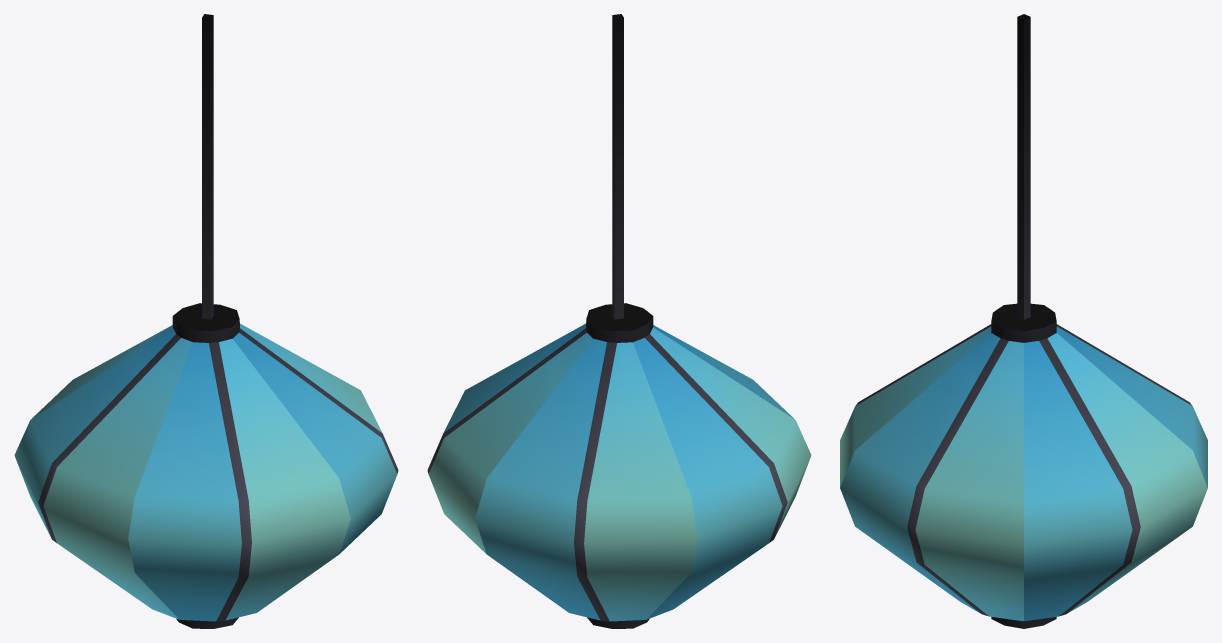
Rendered from Lantern_D_02.FBX.
The picture shows the model from 3 angles, left to right: view 1: azimuth 30°, elevation 25°; view 2: azimuth 150°, elevation 25°; view 3: azimuth 270°, elevation 25°; orthographic projection.
Parts seen in each view (by area): view 1: Lantern_D_02Light, Lantern_D_02; view 2: Lantern_D_02Light, Lantern_D_02; view 3: Lantern_D_02Light, Lantern_D_02.
Boxes of the visible parts, bbox=[...] form: Lantern_D_02Light: bbox=[14, 323, 398, 621]; Lantern_D_02: bbox=[172, 14, 239, 628]; Lantern_D_02Light: bbox=[427, 323, 811, 621]; Lantern_D_02: bbox=[586, 14, 653, 628]; Lantern_D_02Light: bbox=[840, 324, 1207, 621]; Lantern_D_02: bbox=[991, 14, 1056, 628].
Bounding box in the file's own units: 57.23 × 98.04 × 54.66.
1 material, 1 textured.
